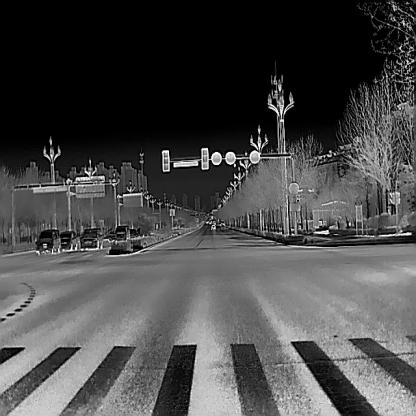car: (35, 228, 61, 255), (80, 226, 103, 250), (60, 229, 80, 251), (115, 224, 130, 240), (106, 228, 116, 242), (129, 227, 137, 237), (220, 222, 226, 230), (210, 223, 216, 230)
